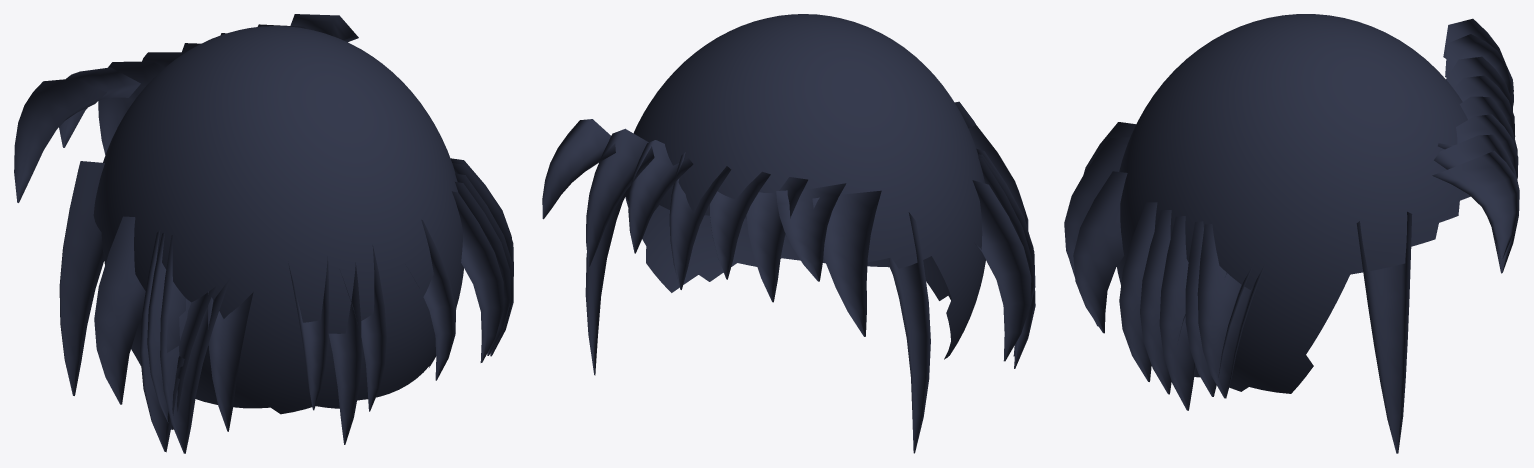
Rendered from anime_hair_rhea.glb.
3 renders of one model, left to right at view 1: azimuth 30°, elevation 25°; view 2: azimuth 150°, elevation 25°; view 3: azimuth 270°, elevation 25°, orthographic.
Visible parts, largest first — view 1: hair_cap, hair; view 2: hair_cap, hair; view 3: hair_cap, hair.
Part boxes in pixels (x1,y1,x2,y2): hair_cap: (93, 26, 463, 414); hair: (14, 14, 513, 453); hair_cap: (619, 14, 985, 359); hair: (542, 101, 1035, 453); hair_cap: (1117, 14, 1470, 393); hair: (1064, 18, 1519, 453).
Size of the model in its own units: 0.3468 by 0.2941 by 0.3489.
